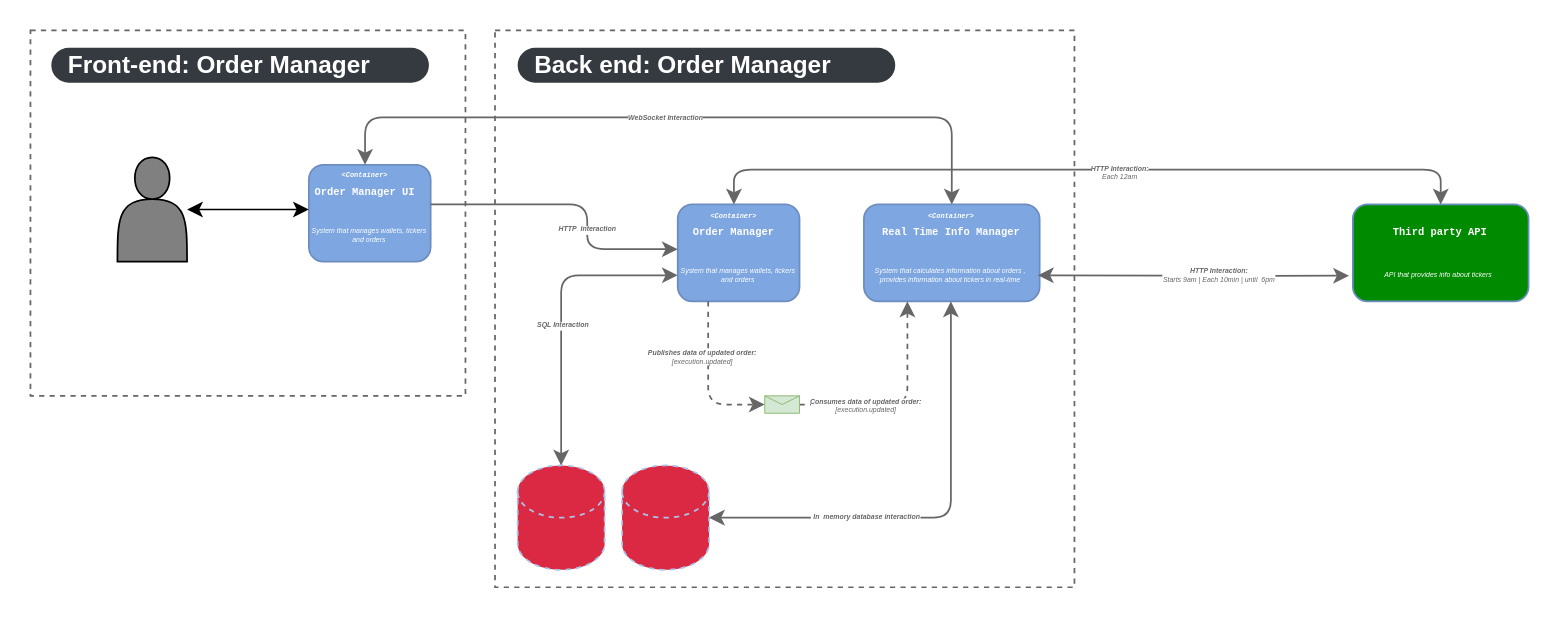
Some shapes in this 1559 by 618 pixel diagram are drawn without their labels. Here are the shapes that lost their labels. From the top down, the box of each, then its label:
(516, 464, 605, 570): POSTGRE DATABASE
(620, 464, 709, 570): REDIS
